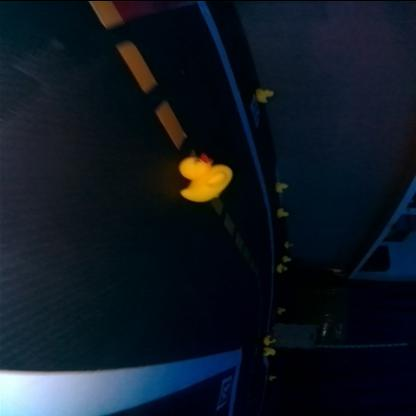Duckie: (181, 153, 234, 197), (257, 88, 273, 102), (276, 180, 290, 191), (278, 206, 290, 216), (264, 346, 276, 354), (278, 264, 288, 271), (266, 335, 276, 342), (286, 240, 294, 246), (285, 254, 292, 260), (279, 306, 286, 312), (271, 374, 276, 379)
QR code: (218, 375, 234, 406), (252, 95, 262, 124)
